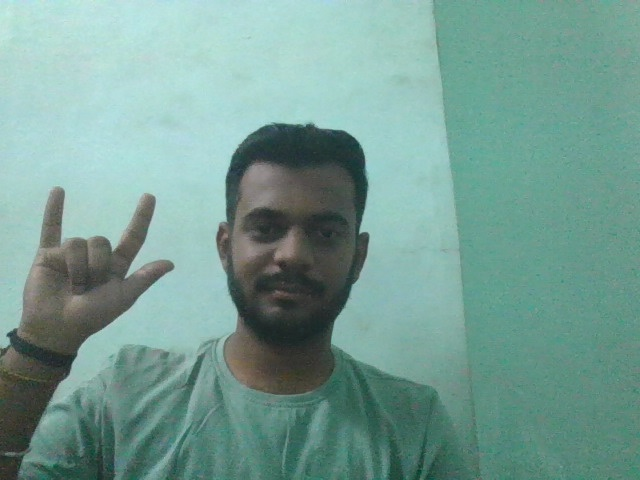iloveyou: (15, 159, 187, 360)
